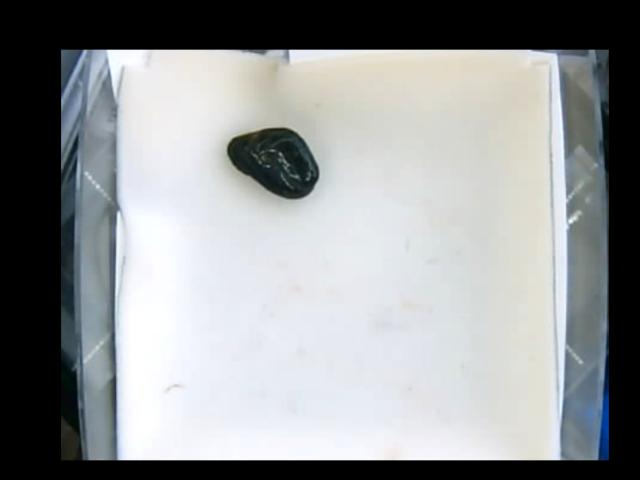Pebble: (226, 127, 320, 197)
